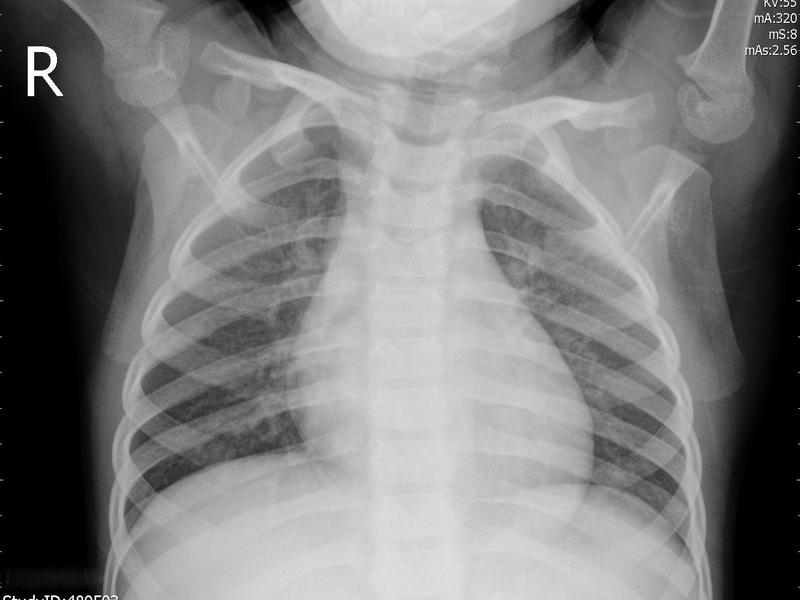PNEUMONIA: (145, 163, 307, 450), (490, 190, 619, 365), (575, 363, 702, 504)
